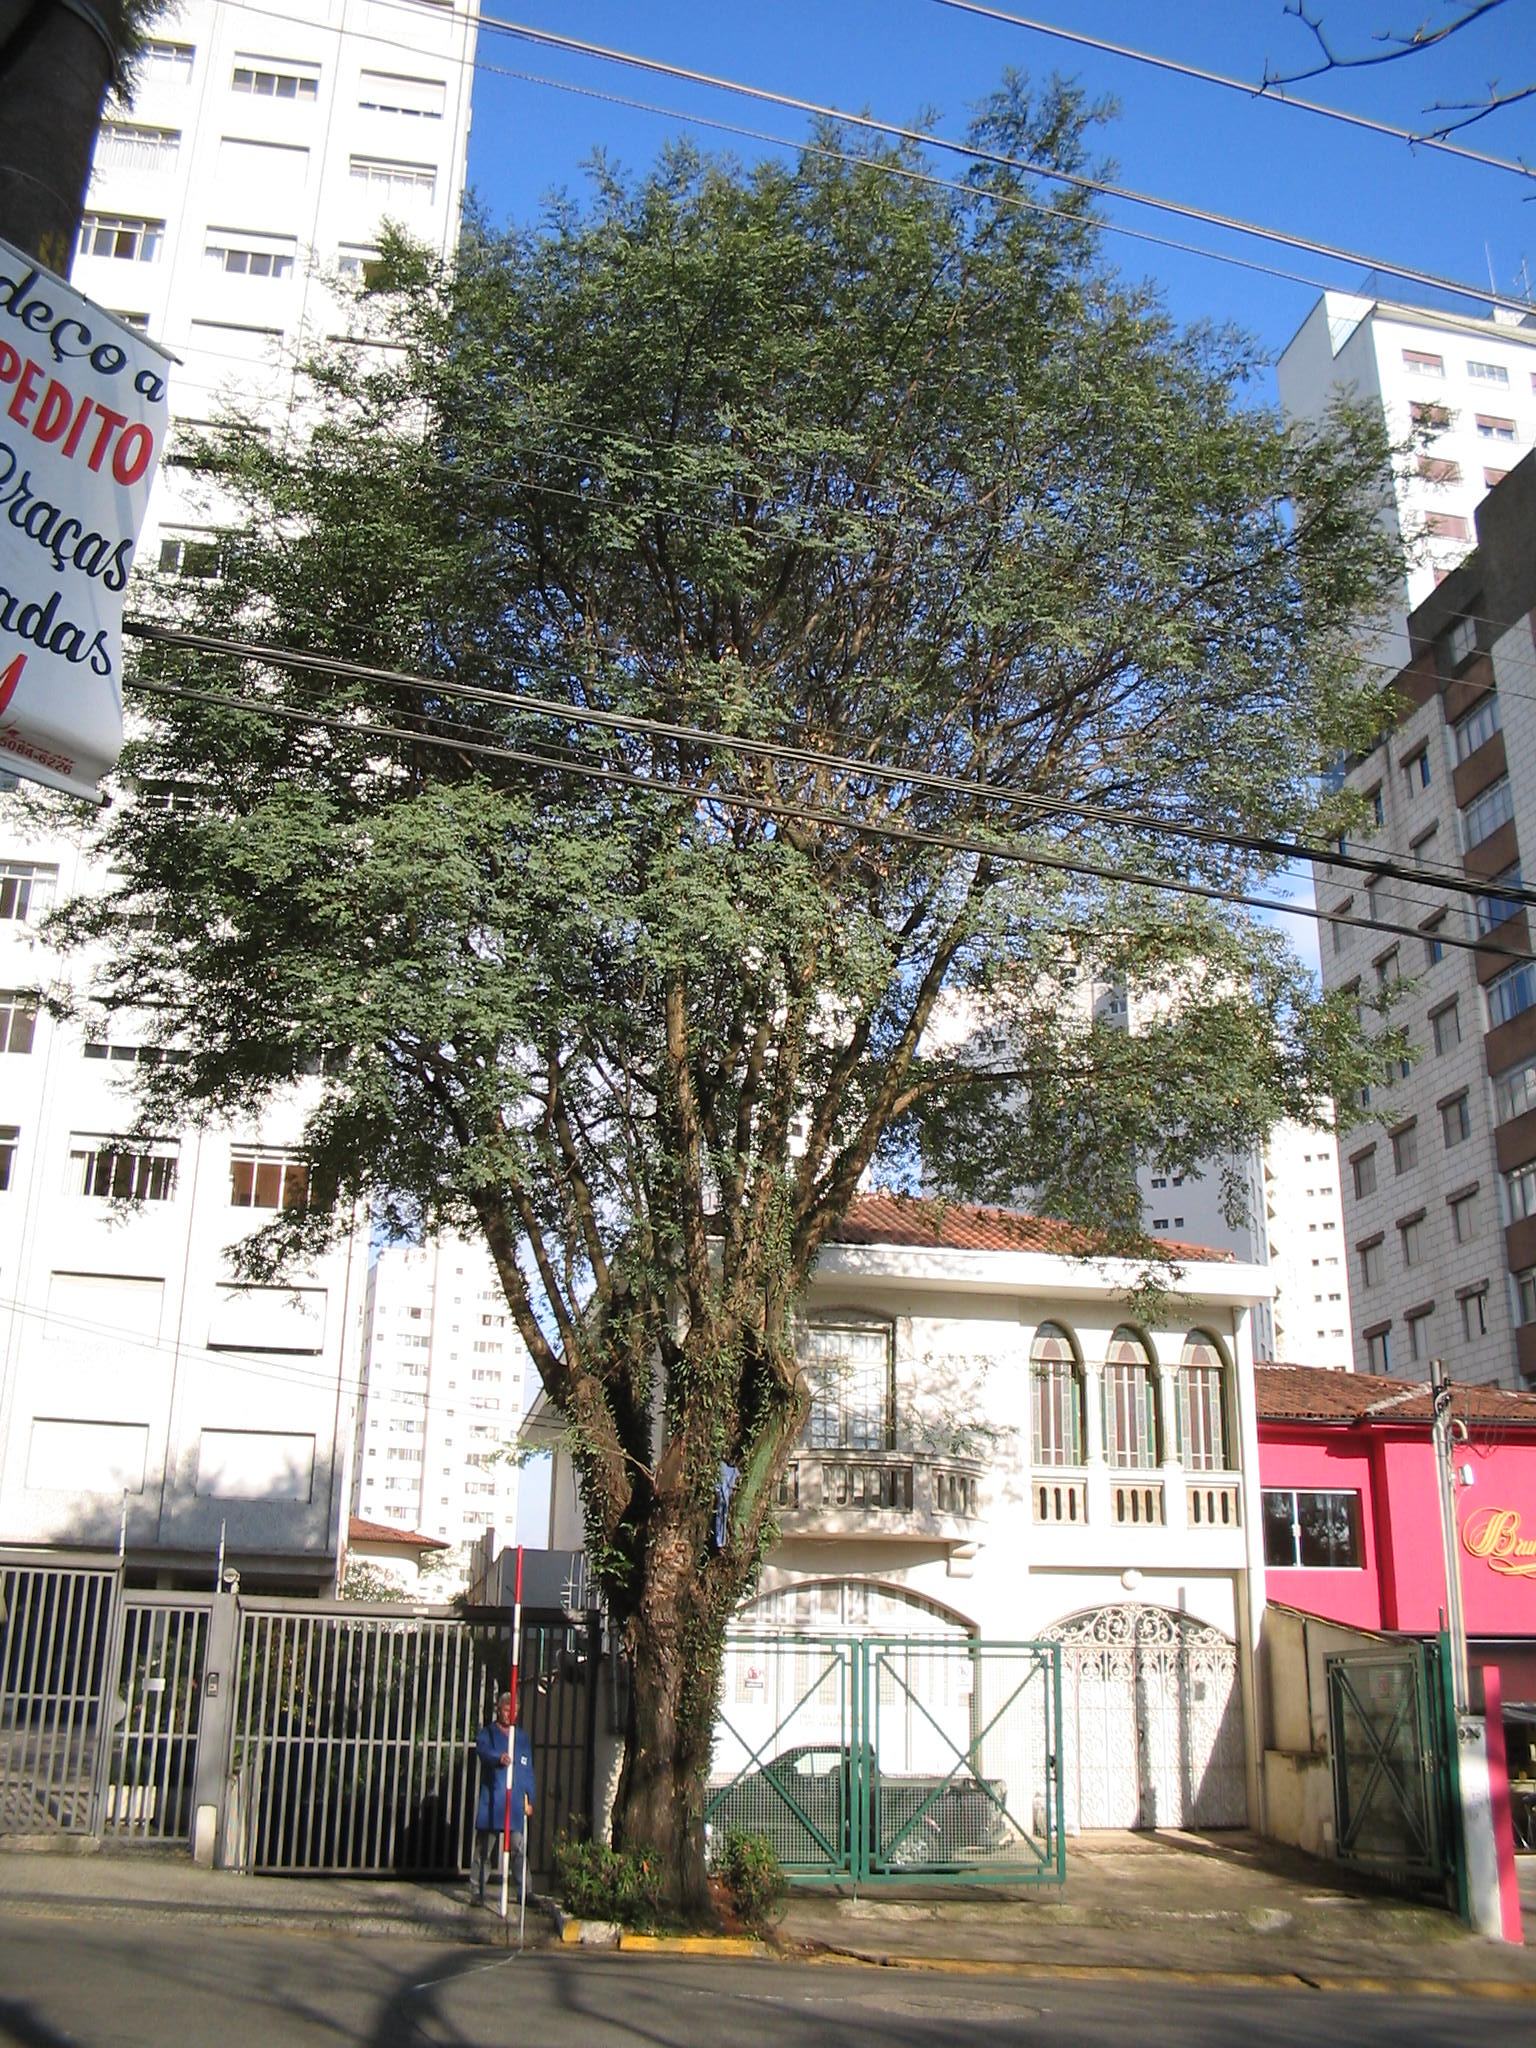crown: (10, 76, 1463, 1311)
stem: (566, 1600, 783, 1929)
stick: (486, 1546, 532, 1913)
tree: (6, 63, 1468, 1934)
